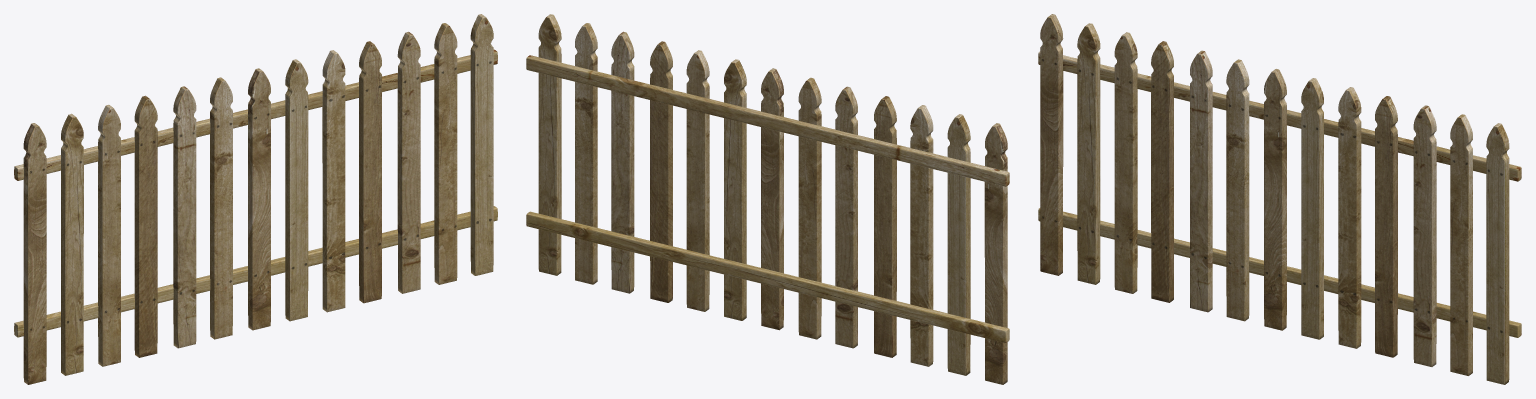
The model's file is valla.fbx.
3 views of the same model, side by side, from view 1: azimuth 30°, elevation 25°; view 2: azimuth 150°, elevation 25°; view 3: azimuth 330°, elevation 25° (orthographic).
Visible parts, largest first — view 1: 13076_Gothic_Wood_Fence_Panel_v2_l3; view 2: 13076_Gothic_Wood_Fence_Panel_v2_l3; view 3: 13076_Gothic_Wood_Fence_Panel_v2_l3.
Part boxes in pixels (<box>): 13076_Gothic_Wood_Fence_Panel_v2_l3: <box>14,14,497,384</box>; 13076_Gothic_Wood_Fence_Panel_v2_l3: <box>526,14,1009,384</box>; 13076_Gothic_Wood_Fence_Panel_v2_l3: <box>1038,14,1521,384</box>.
Bounding box in the file's own units: 672 × 343 × 20.08.
Materials: 2 (2 with a texture image).
